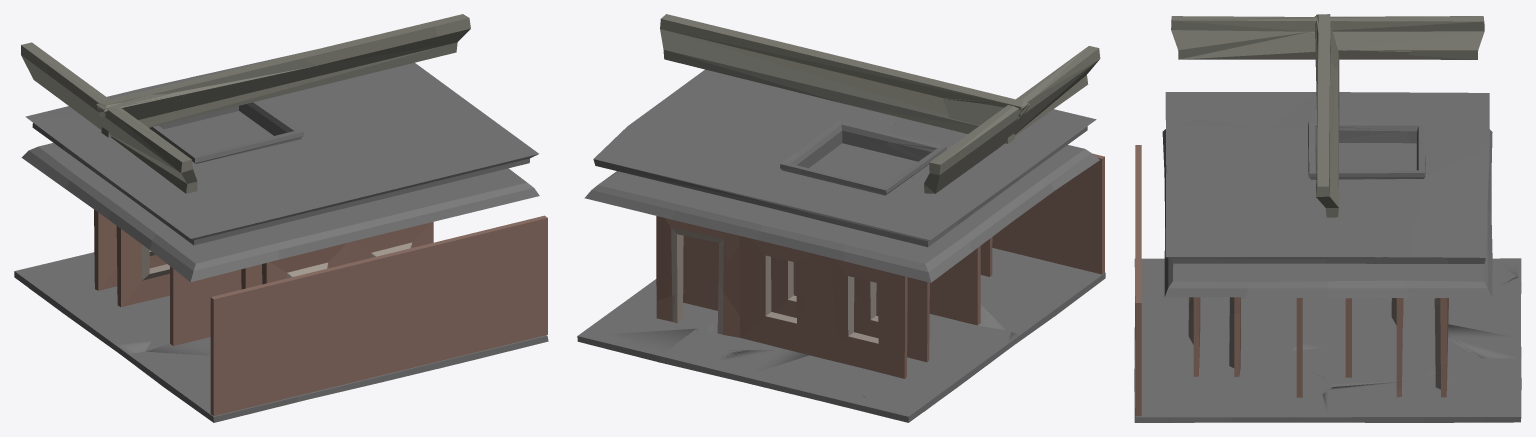
The model's file is Home1.1.fbx.
3 renders of one model, left to right at view 1: azimuth 30°, elevation 25°; view 2: azimuth 150°, elevation 25°; view 3: azimuth 270°, elevation 25°, orthographic. The views are drawn at different scales.
Parts seen in each view (by area): view 1: Pnalel9, Foundation, Roof, Floor, Roof_cell.003, Roof_cell.005, Roof_cell.006, Fence1_cell.006, Pnalel9_cell, Roof_cell, Fence2, Roof_cell.004 (+20 smaller); view 2: Roof, Floor, Foundation, Fence1, Pnalel2, Pnalel9, Roof_cell.006, Pnalel2_cell.003, Pnalel2_cell.002, Roof_cell.004, Fence2, Pnalel4 (+26 smaller); view 3: Floor, Roof, Foundation, Fence2, Floor_cell.011, Roof_cell.006, Roof_cell.003, Roof_cell.004, Roof_cell.005, Floor_cell.004, Fence1, Floor_cell.003 (+23 smaller).
Boxes of the visible parts, <box> form: Pnalel9: <box>210,215,547,415</box>; Foundation: <box>21,111,539,282</box>; Roof: <box>25,50,538,243</box>; Floor: <box>14,252,548,422</box>; Roof_cell.003: <box>334,118,538,208</box>; Roof_cell.005: <box>118,179,337,245</box>; Roof_cell.006: <box>191,63,436,131</box>; Fence1_cell.006: <box>268,25,437,93</box>; Pnalel9_cell: <box>234,270,398,409</box>; Roof_cell: <box>244,101,376,179</box>; Fence2: <box>21,42,197,193</box>; Roof_cell.004: <box>63,127,322,195</box>; Roof: <box>593,69,1096,246</box>; Floor: <box>577,248,1105,422</box>; Foundation: <box>584,143,1099,282</box>; Fence1: <box>660,19,1029,143</box>; Pnalel2: <box>665,218,907,378</box>; Pnalel9: <box>992,155,1104,273</box>; Roof_cell.006: <box>613,102,801,206</box>; Pnalel2_cell.003: <box>718,245,850,365</box>; Pnalel2_cell.002: <box>830,258,907,378</box>; Roof_cell.004: <box>886,117,1020,224</box>; Fence2: <box>924,57,1099,193</box>; Pnalel4: <box>686,241,929,361</box>; Floor: <box>1134,258,1521,422</box>; Roof: <box>1165,92,1489,263</box>; Foundation: <box>1162,129,1492,298</box>; Fence2: <box>1171,16,1484,59</box>; Floor_cell.011: <box>1241,297,1434,351</box>; Roof_cell.006: <box>1294,164,1488,263</box>; Roof_cell.003: <box>1165,169,1327,259</box>; Roof_cell.004: <box>1221,94,1422,169</box>; Roof_cell.005: <box>1166,92,1312,170</box>; Floor_cell.004: <box>1287,379,1484,422</box>; Fence1: <box>1314,14,1339,217</box>; Floor_cell.003: <box>1319,336,1478,383</box>.
Size of the model in its own units: 1318 by 864 by 1240.
